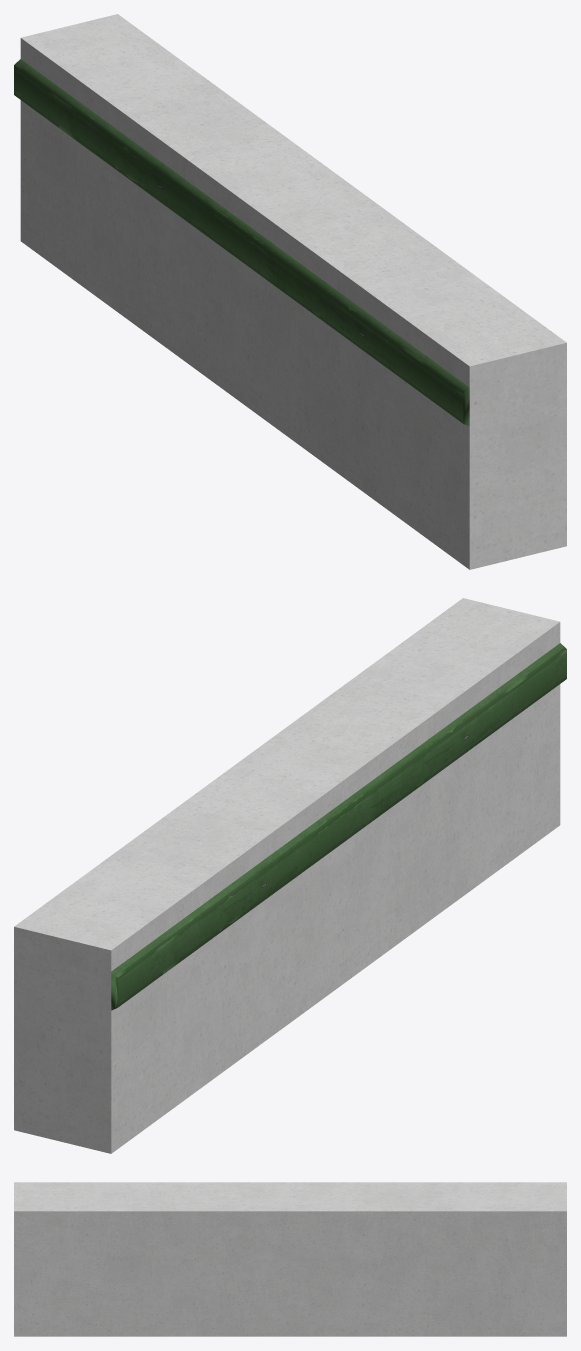
The model's file is MB_Parapet_D_4m.fbx.
3 renders of one model, top to bottom at view 1: azimuth 30°, elevation 25°; view 2: azimuth 150°, elevation 25°; view 3: azimuth 270°, elevation 25°, orthographic. The views are drawn at different scales.
Parts seen in each view (by area): view 1: MB_Parapet_4m_D; view 2: MB_Parapet_4m_D; view 3: MB_Parapet_4m_D.
Boxes of the visible parts, bbox=[...] form: MB_Parapet_4m_D: bbox=[14, 14, 566, 569]; MB_Parapet_4m_D: bbox=[14, 598, 566, 1153]; MB_Parapet_4m_D: bbox=[14, 1182, 566, 1336].
Size of the model in its own units: 53.42 by 100 by 400.
